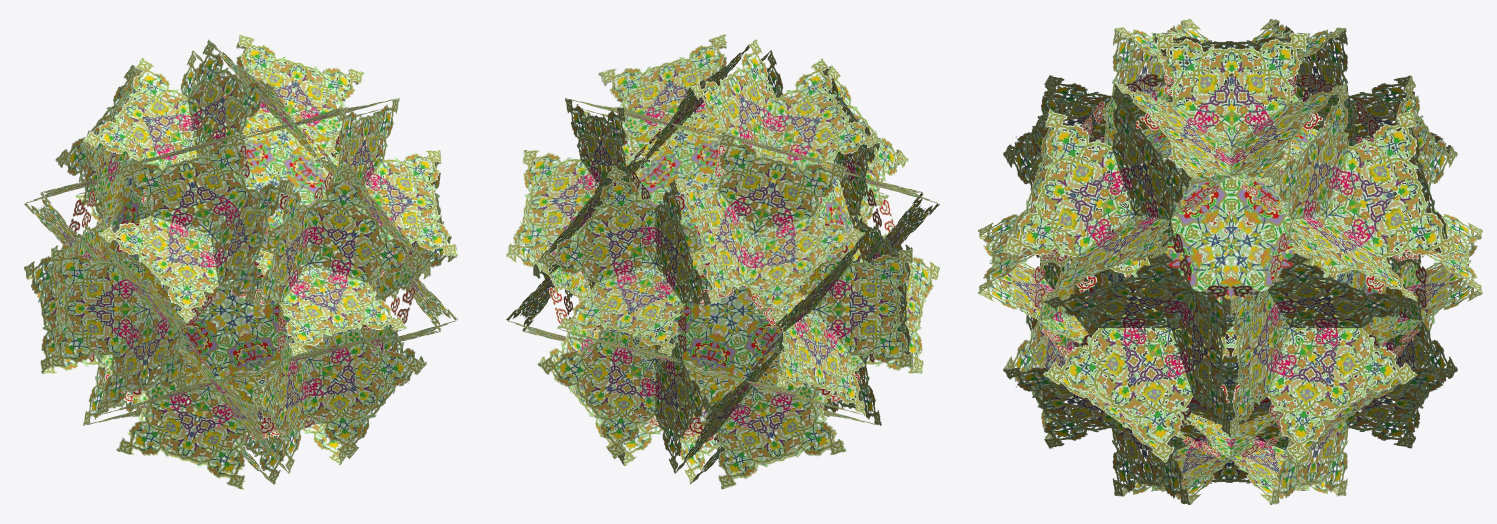
The model's file is GreatDodecahedron9.obj.
The picture shows the model from 3 angles, left to right: view 1: azimuth 30°, elevation 25°; view 2: azimuth 150°, elevation 25°; view 3: azimuth 270°, elevation 25°; orthographic projection. The views are drawn at different scales.
Bounding box in the file's own units: 1.62 × 1.62 × 1.62.
Materials: 1 (1 with a texture image).
